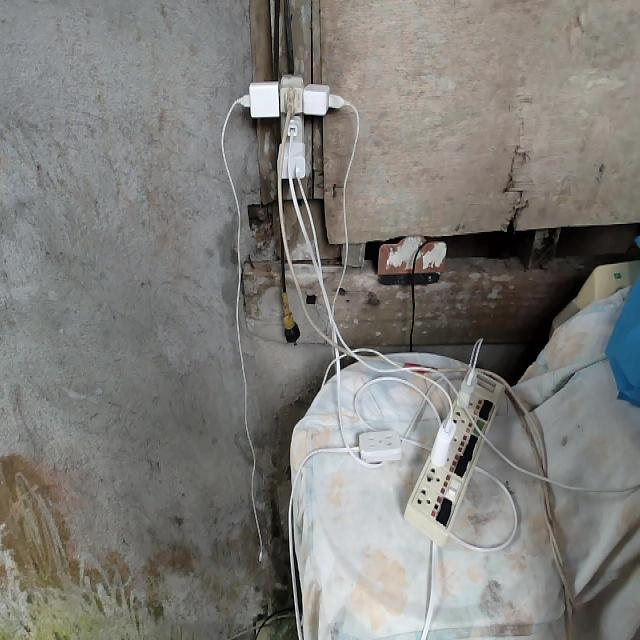-: (234, 70, 342, 182)
